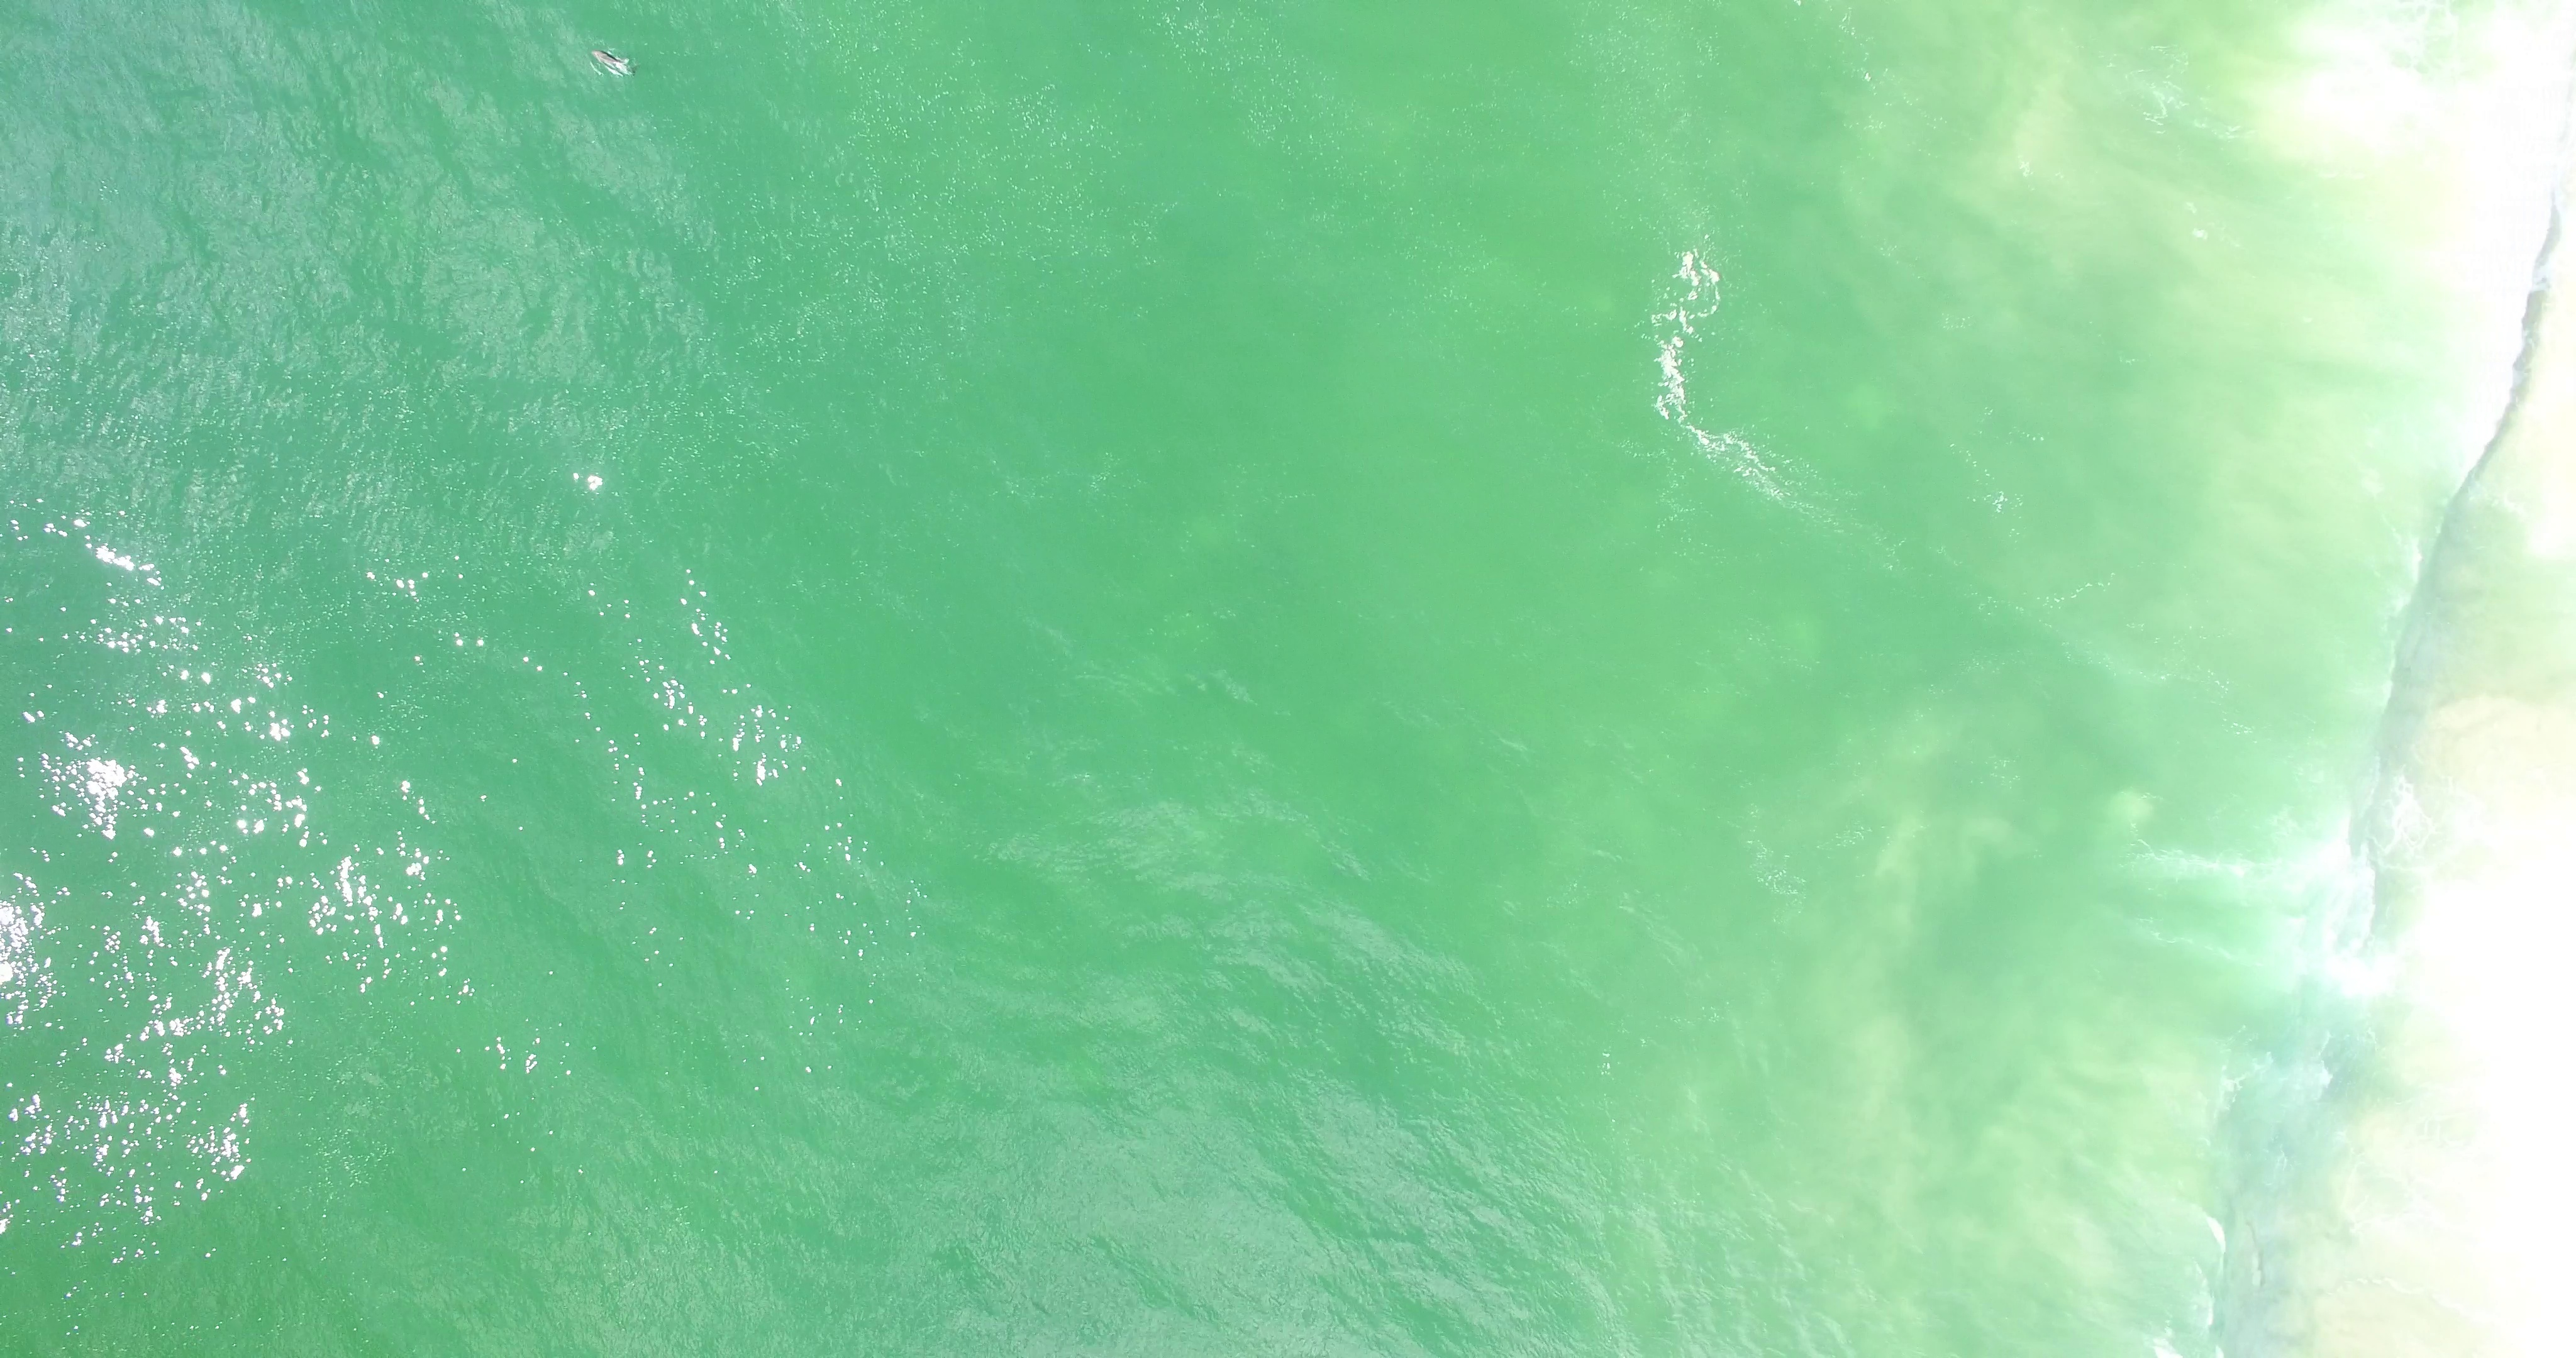dolphin: (589, 46, 634, 78)
